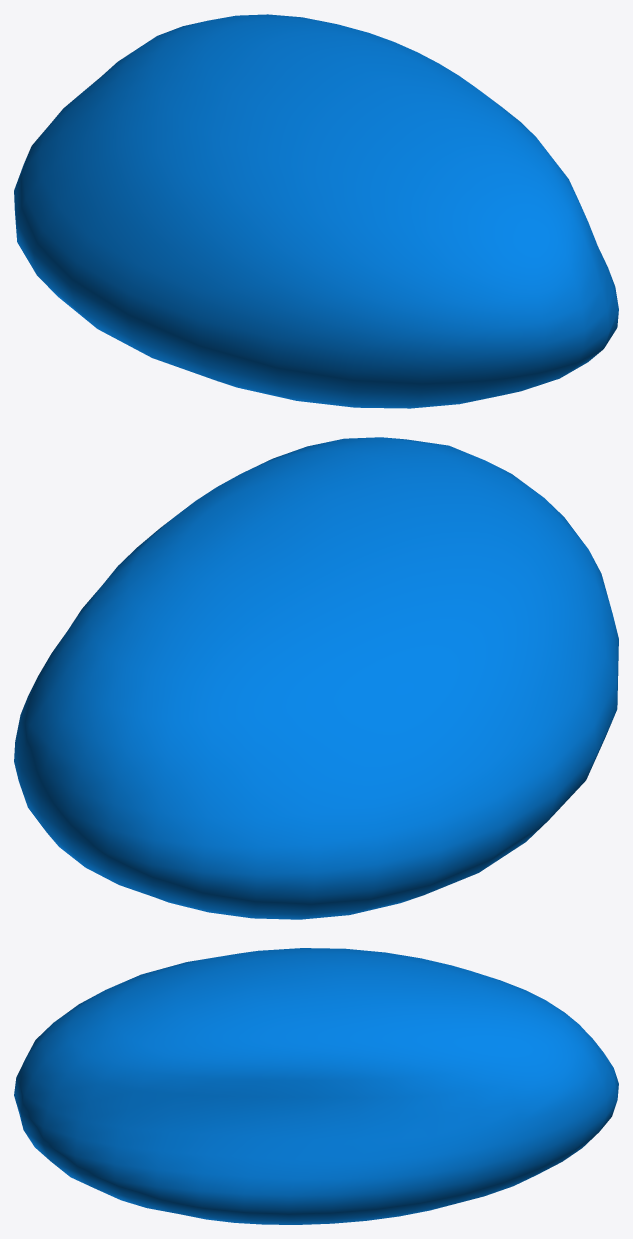
File: blob-left-hand.glb
The picture shows the model from 3 angles, top to bottom: view 1: azimuth 30°, elevation 25°; view 2: azimuth 150°, elevation 25°; view 3: azimuth 270°, elevation 25°; orthographic projection. The views are drawn at different scales.
Parts seen in each view (by area): view 1: Sphere001; view 2: Sphere001; view 3: Sphere001.
Part boxes in pixels (bbox=[...]): Sphere001: bbox=[14, 14, 618, 408]; Sphere001: bbox=[14, 437, 618, 919]; Sphere001: bbox=[14, 948, 618, 1224].
Bounding box in the file's own units: 0.3395 × 0.1948 × 0.4966.
